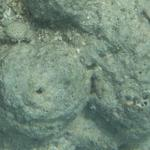dead: (3, 4, 146, 145)
